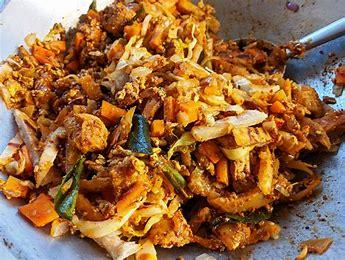Kottu: (10, 7, 332, 251)
